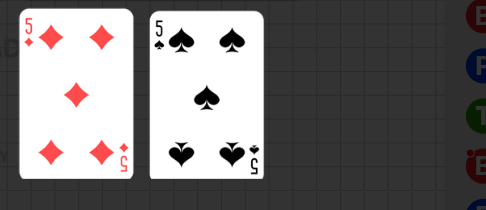5S: (153, 19, 166, 52), (248, 143, 260, 176)
